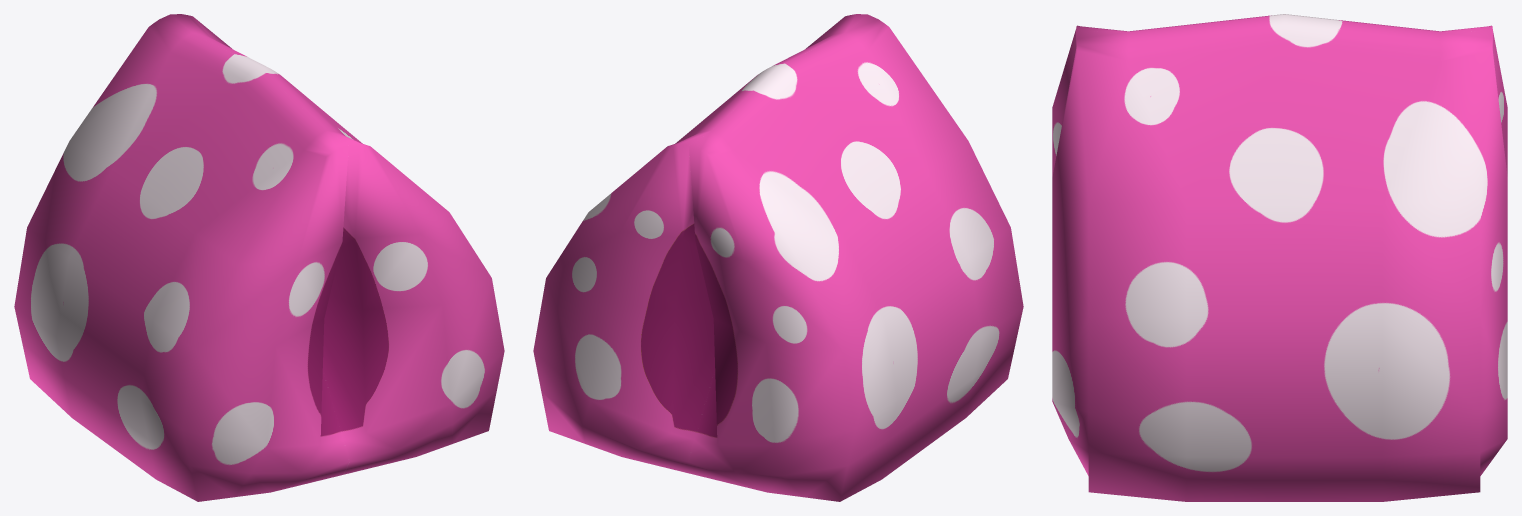
The model's file is armband.glb.
3 renders of one model, left to right at view 1: azimuth 30°, elevation 25°; view 2: azimuth 150°, elevation 25°; view 3: azimuth 270°, elevation 25°, orthographic. The views are drawn at different scales.
Visible parts, largest first — view 1: ARMBAND; view 2: ARMBAND; view 3: ARMBAND.
Part boxes in pixels (<box>): ARMBAND: <box>14,14,504,501</box>; ARMBAND: <box>533,14,1023,501</box>; ARMBAND: <box>1052,14,1507,501</box>.
Bounding box in the file's own units: 2.22 × 2.37 × 2.32.
1 material, 1 textured.
